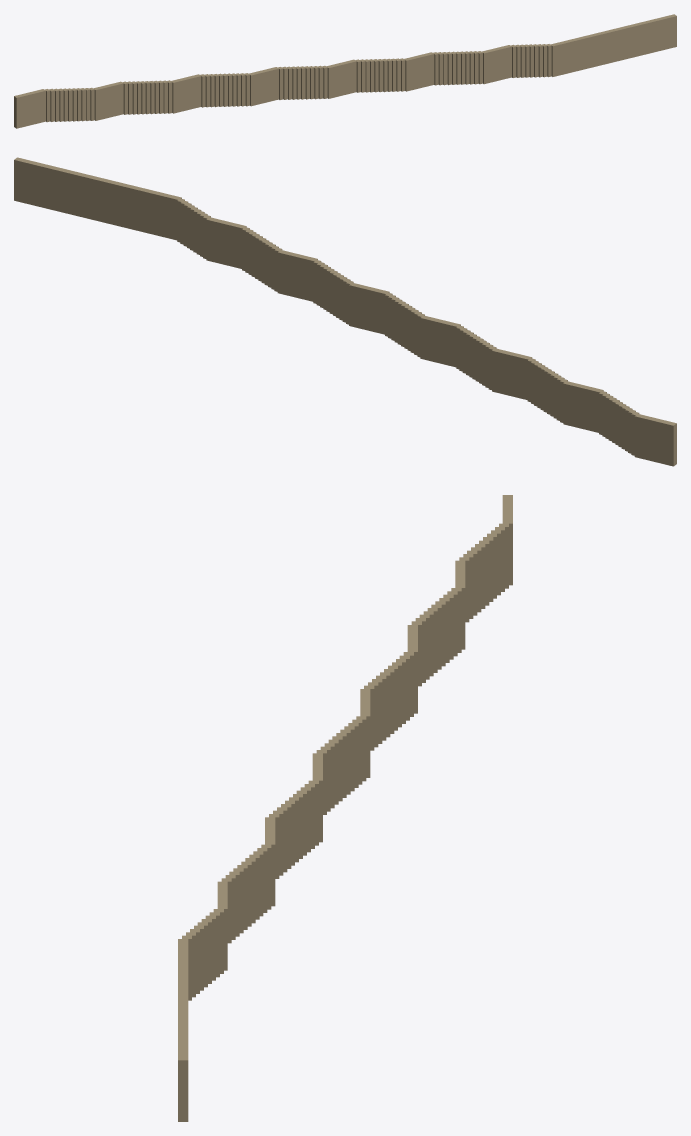
Rendered from KotelApproach_ElevatedDeck_V2.obj.
3 views of the same model, one above another, from view 1: azimuth 30°, elevation 25°; view 2: azimuth 150°, elevation 25°; view 3: azimuth 270°, elevation 25° (orthographic). The views are drawn at different scales.
Visible parts, largest first — view 1: KotelApproach_ElevatedDeck_V2; view 2: KotelApproach_ElevatedDeck_V2; view 3: KotelApproach_ElevatedDeck_V2.
Part boxes in pixels (x1,y1,x2,y2): KotelApproach_ElevatedDeck_V2: [14, 14, 676, 128]; KotelApproach_ElevatedDeck_V2: [14, 157, 676, 466]; KotelApproach_ElevatedDeck_V2: [178, 495, 512, 1121].
Size of the model in its own units: 59 by 3 by 14.77.
